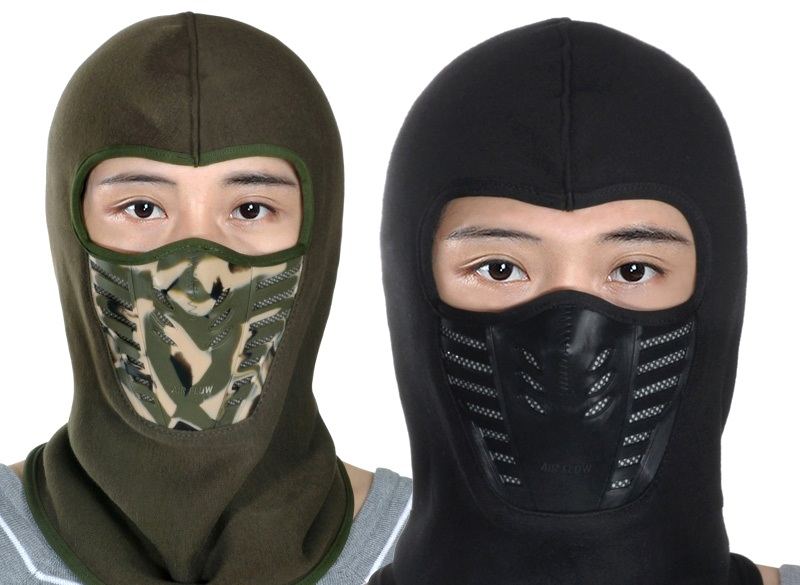face_mask: (440, 169, 697, 477), (89, 126, 302, 425)
